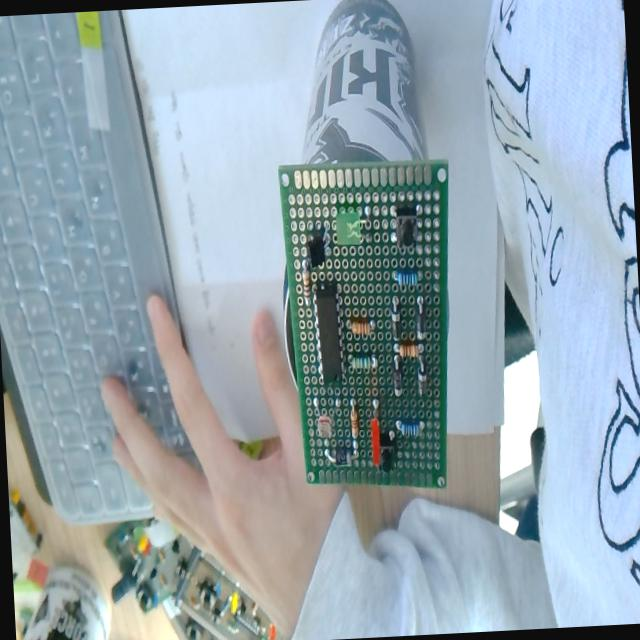IC: (315, 285, 343, 384)
cds: (312, 392, 342, 444)
diode: (326, 444, 354, 468), (414, 296, 428, 338), (390, 296, 402, 341), (416, 358, 428, 395), (392, 362, 403, 398)
led: (334, 207, 364, 248), (368, 398, 383, 467)
resistor: (394, 267, 421, 288), (349, 316, 373, 338), (396, 418, 422, 438), (396, 340, 418, 360), (302, 263, 312, 301), (350, 402, 360, 438), (350, 355, 372, 371)
switch: (394, 206, 420, 251), (373, 432, 401, 473)
transistor: (306, 224, 330, 270)
